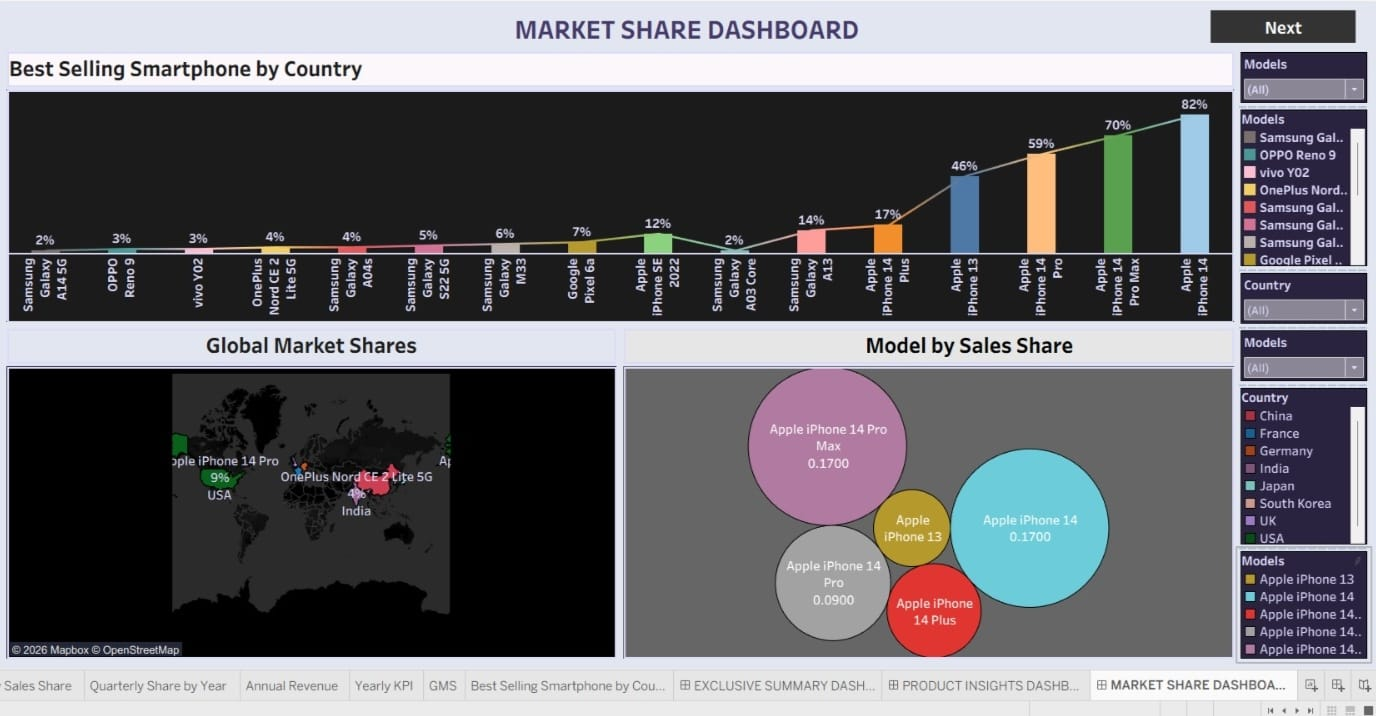

Layout of this report page (visuals, bound fields, positions):
{"tool":"tableau","page":{"name":"MARKET SHARE DASHBOARD","canvas":[1000,1000],"units":"permille","ordinal":1},"visuals":[{"type":"title","box":[4.8,10,990.3,61.2]},{"type":"dashboard-object","box":[879.3,14.1,105.3,48.2]},{"type":"worksheet","title":"Best Selling Smartphone by Country","mark":"Bar","rows":["Sales Share","Sales Share"],"cols":["Models"],"box":[4.8,71.2,893.8,415]},{"type":"filter","title":"Best Selling Smartphone by Country","param":"[federated.1kowoyp0nmvw2g178k39i0eebbf5].[none:Models:nk]","box":[898.6,71.2,96.6,86.1]},{"type":"legend","title":"Best Selling Smartphone by Country","param":"[federated.1kowoyp0nmvw2g178k39i0eebbf5].[none:Models:nk]","box":[898.6,157.3,96.6,244.7]},{"type":"filter","title":"GMS","param":"[federated.1kowoyp0nmvw2g178k39i0eebbf5].[none:Country:nk]","box":[898.6,402,96.6,86.1]},{"type":"worksheet","title":"GMS","mark":"Multipolygon","box":[4.8,486.1,446.9,503.9]},{"type":"worksheet","title":"Model by Sales Share","mark":"Circle","box":[451.7,486.1,446.9,503.9]},{"type":"filter","title":"GMS","param":"[federated.1kowoyp0nmvw2g178k39i0eebbf5].[none:Models:nk]","box":[898.6,488.1,96.6,86.1]},{"type":"legend","title":"GMS","param":"[federated.1kowoyp0nmvw2g178k39i0eebbf5].[none:Country:nk]","box":[898.6,574.3,96.6,244.7]},{"type":"legend","title":"Model by Sales Share","param":"[federated.1mce5i31xk0q35172pfse0q1p4u5].[none:Models:nk]","box":[898.6,819,96.6,171]}]}

Visuals, with their boxes on the dashboard's canvas, which has no fixed pixel size, in thousandths of its width and height (x1, y1, x2, y2). These are canvas units, not pixel positions in the 1376x716 screenshot, which may show the page scaled, cropped or inside an application window:
title: 5:10:995:71
dashboard-object: 879:14:985:62
"Best Selling Smartphone by Country" worksheet (Bar marks): 5:71:899:486
"Best Selling Smartphone by Country" filter: 899:71:995:157
"Best Selling Smartphone by Country" legend: 899:157:995:402
"GMS" filter: 899:402:995:488
"GMS" worksheet (Multipolygon marks): 5:486:452:990
"Model by Sales Share" worksheet (Circle marks): 452:486:899:990
"GMS" filter: 899:488:995:574
"GMS" legend: 899:574:995:819
"Model by Sales Share" legend: 899:819:995:990
